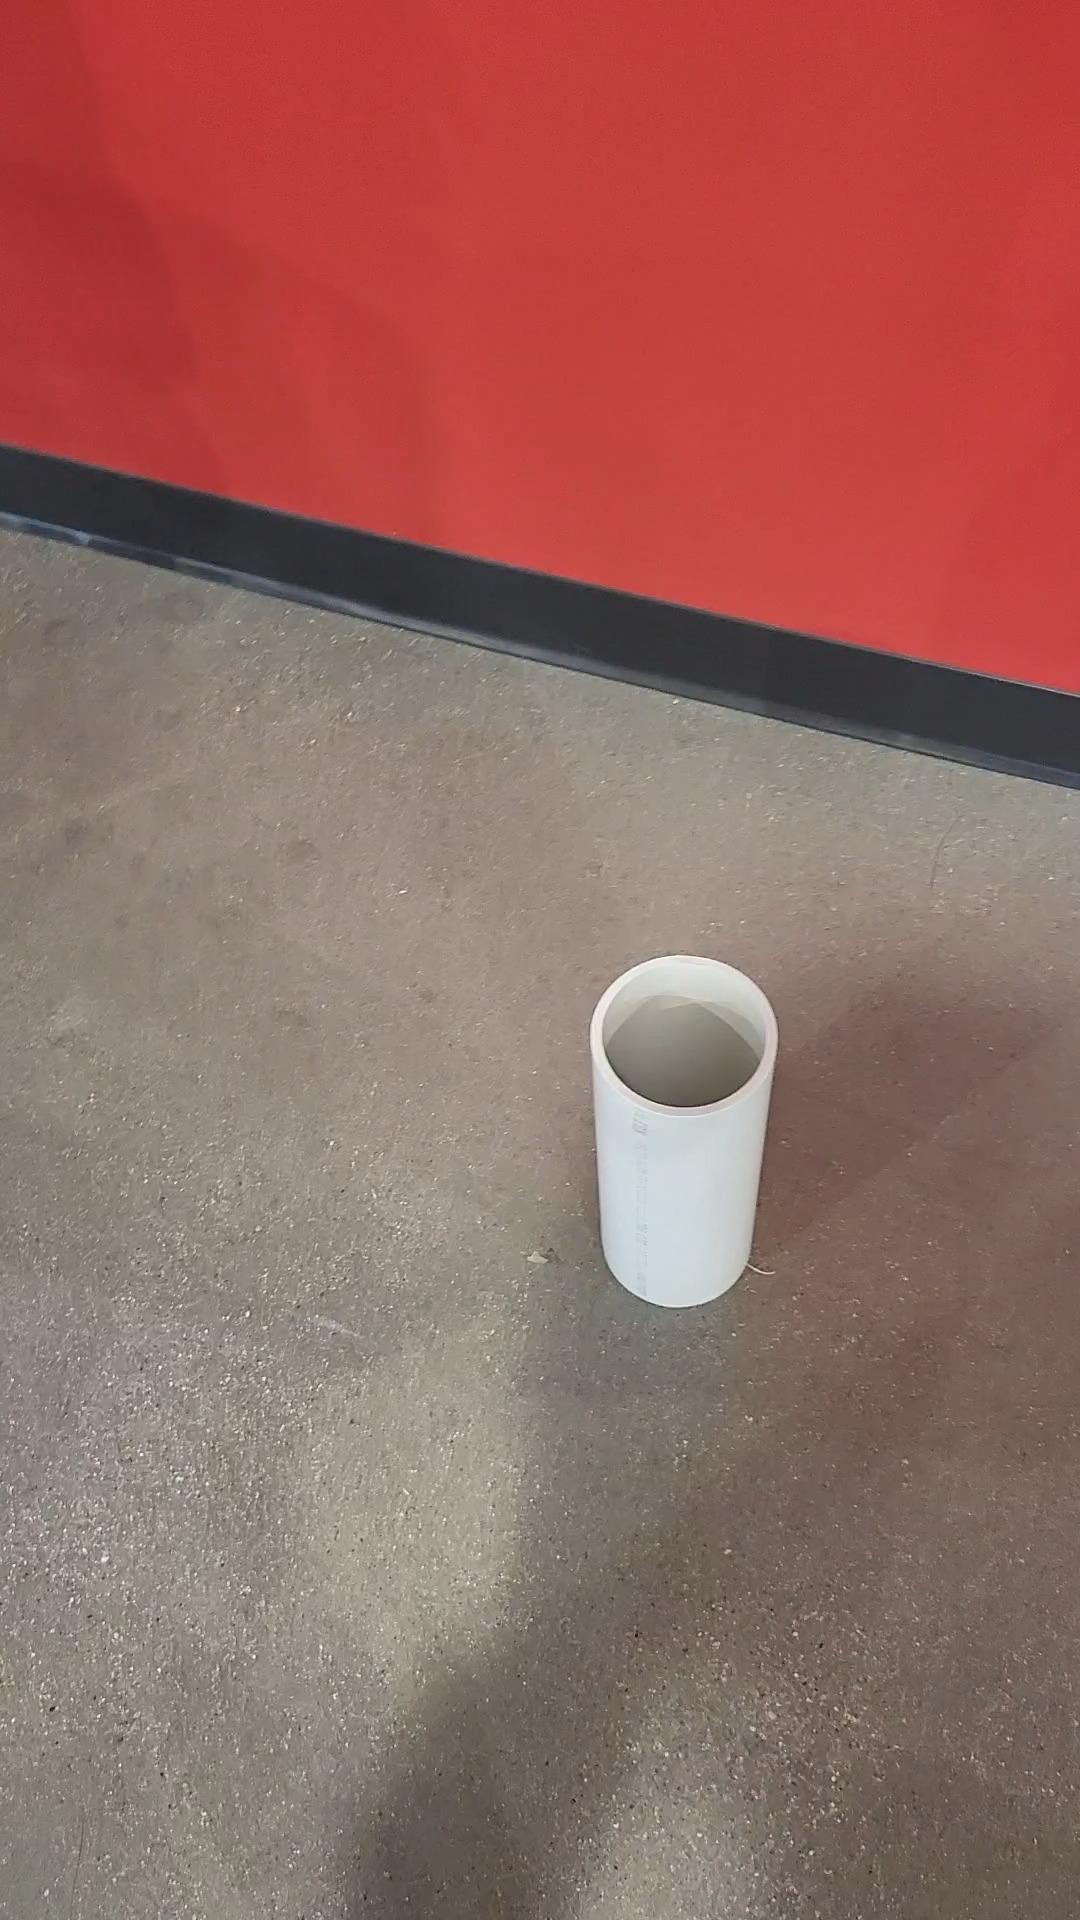coral: (593, 955, 783, 1313)
